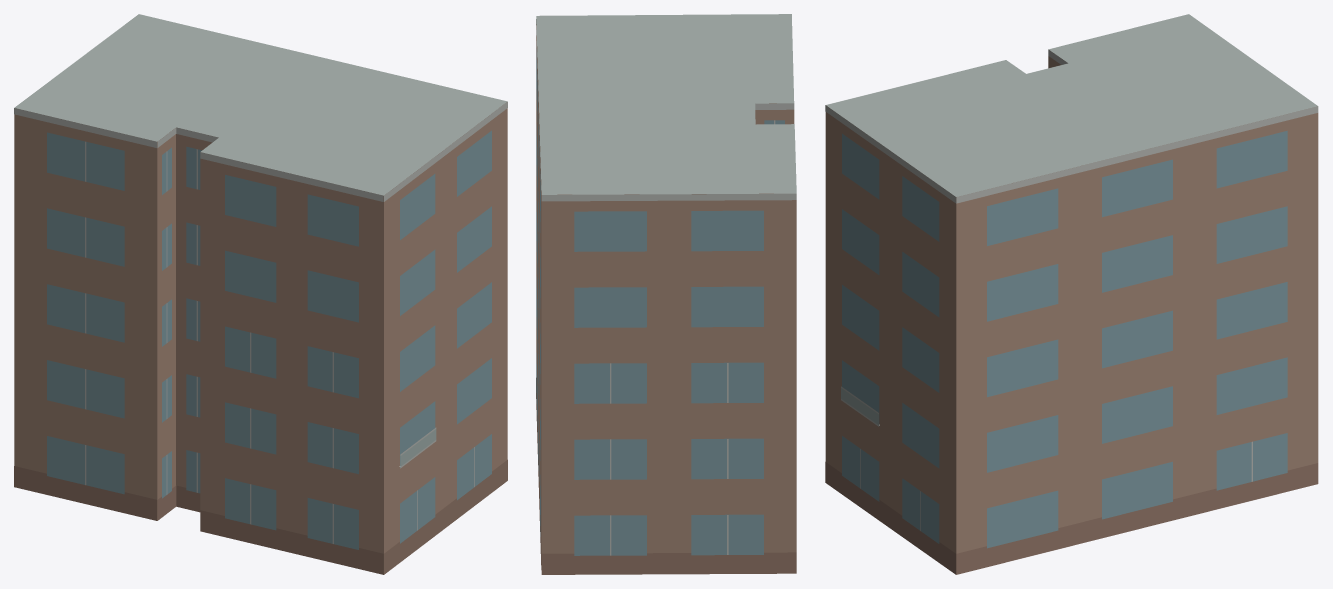
Rendered from survey-upis-32532248.glb.
The picture shows the model from 3 angles, left to right: view 1: azimuth 30°, elevation 25°; view 2: azimuth 150°, elevation 25°; view 3: azimuth 270°, elevation 25°; orthographic projection.
Visible parts, largest first — view 1: survey-upis-32532248.tmp; view 2: survey-upis-32532248.tmp; view 3: survey-upis-32532248.tmp.
Boxes of the visible parts, x1,y1,x2,y2 form: survey-upis-32532248.tmp: [14, 14, 507, 574]; survey-upis-32532248.tmp: [536, 14, 796, 574]; survey-upis-32532248.tmp: [825, 14, 1318, 574].
Size of the model in its own units: 14.77 by 14.2 by 16.8.
